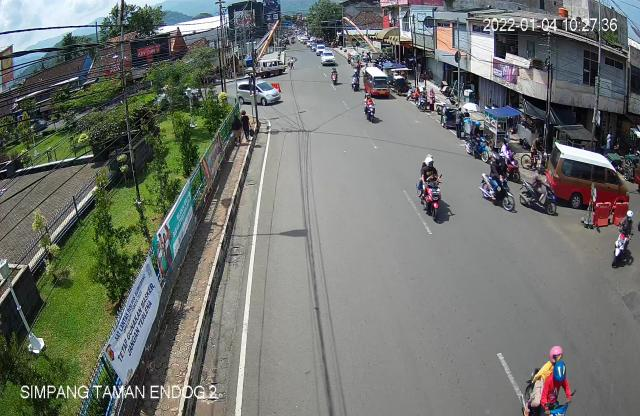Mobil: (544, 143, 634, 213)
Motor: (519, 346, 570, 416), (411, 148, 452, 227), (520, 167, 560, 222), (480, 154, 515, 216), (608, 208, 639, 270), (464, 113, 488, 160), (361, 92, 378, 118)
